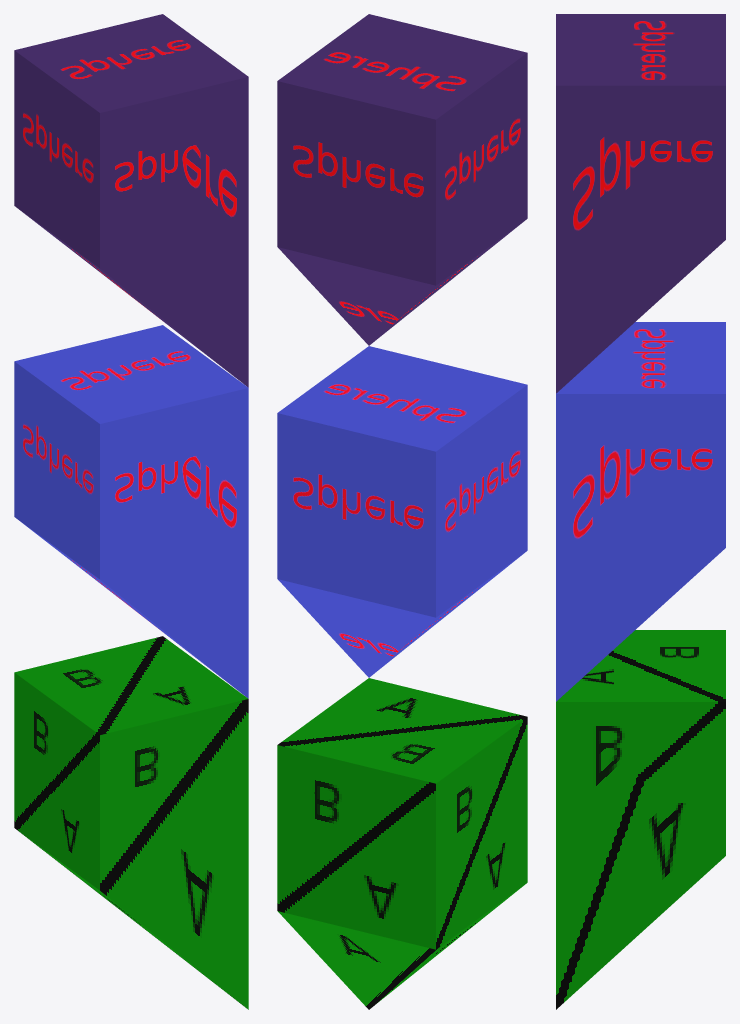
File: three_materials_all_fallback.gltf
The picture shows the model from 3 angles, left to right: view 1: azimuth 30°, elevation 25°; view 2: azimuth 150°, elevation 25°; view 3: azimuth 270°, elevation 25°; orthographic projection. The views are drawn at different scales.
Bounding box in the file's own units: 1 × 6 × 1.
3 materials, 3 textured.
